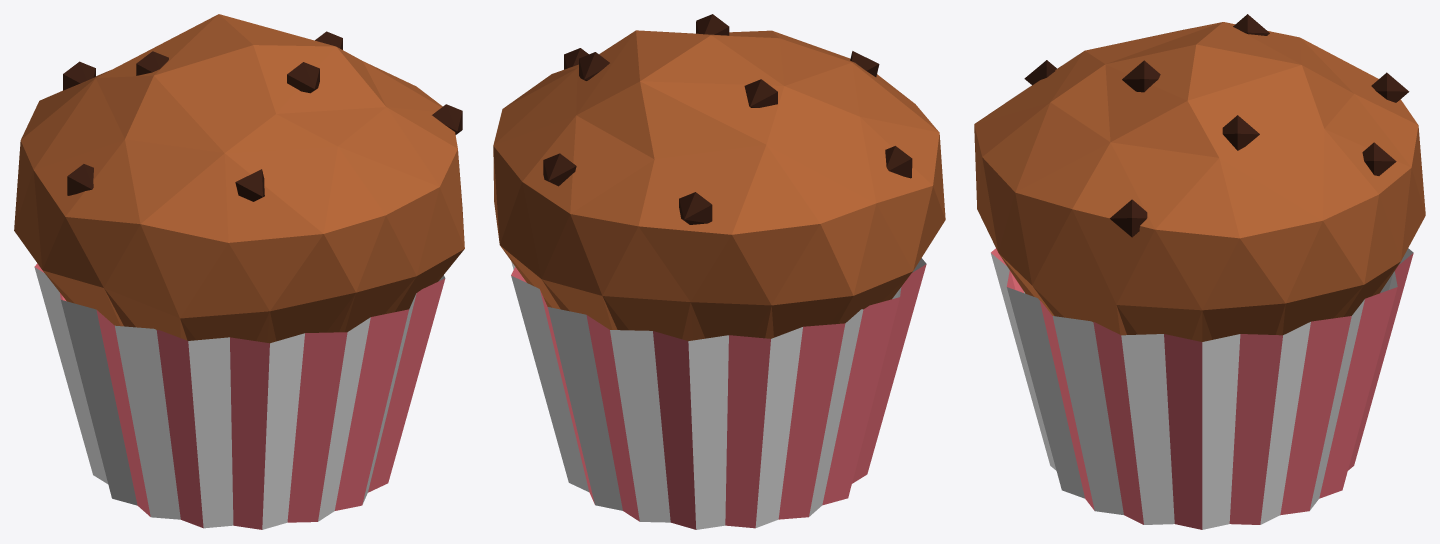
The model's file is muffin_chocochip.fbx.
The picture shows the model from 3 angles, left to right: view 1: azimuth 30°, elevation 25°; view 2: azimuth 150°, elevation 25°; view 3: azimuth 270°, elevation 25°; orthographic projection.
Visible parts, largest first — view 1: muffin_chocochip; view 2: muffin_chocochip; view 3: muffin_chocochip.
Boxes of the visible parts, <box> form: muffin_chocochip: <box>14,14,464,529</box>; muffin_chocochip: <box>493,14,945,529</box>; muffin_chocochip: <box>974,14,1425,529</box>.
Bounding box in the file's own units: 6.48 × 6.69 × 6.44.
